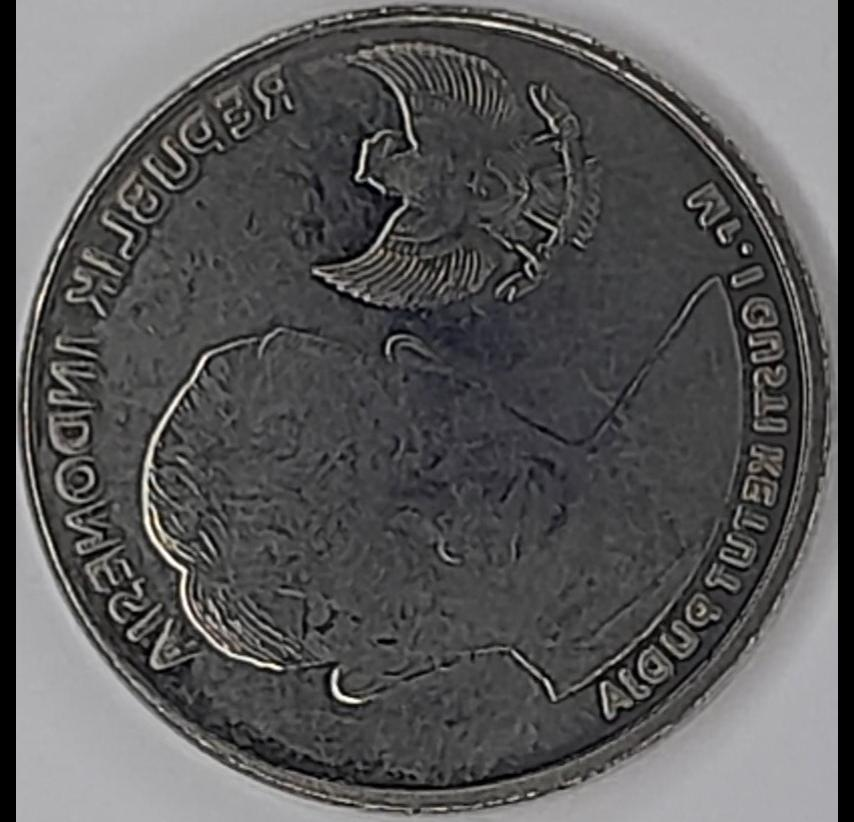coin_1000_e2016: (15, 16, 843, 822)
